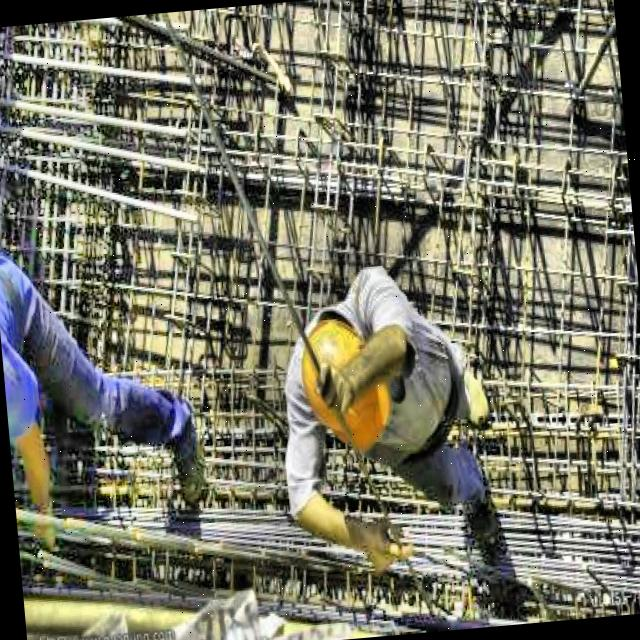helmet: (284, 300, 396, 452)
